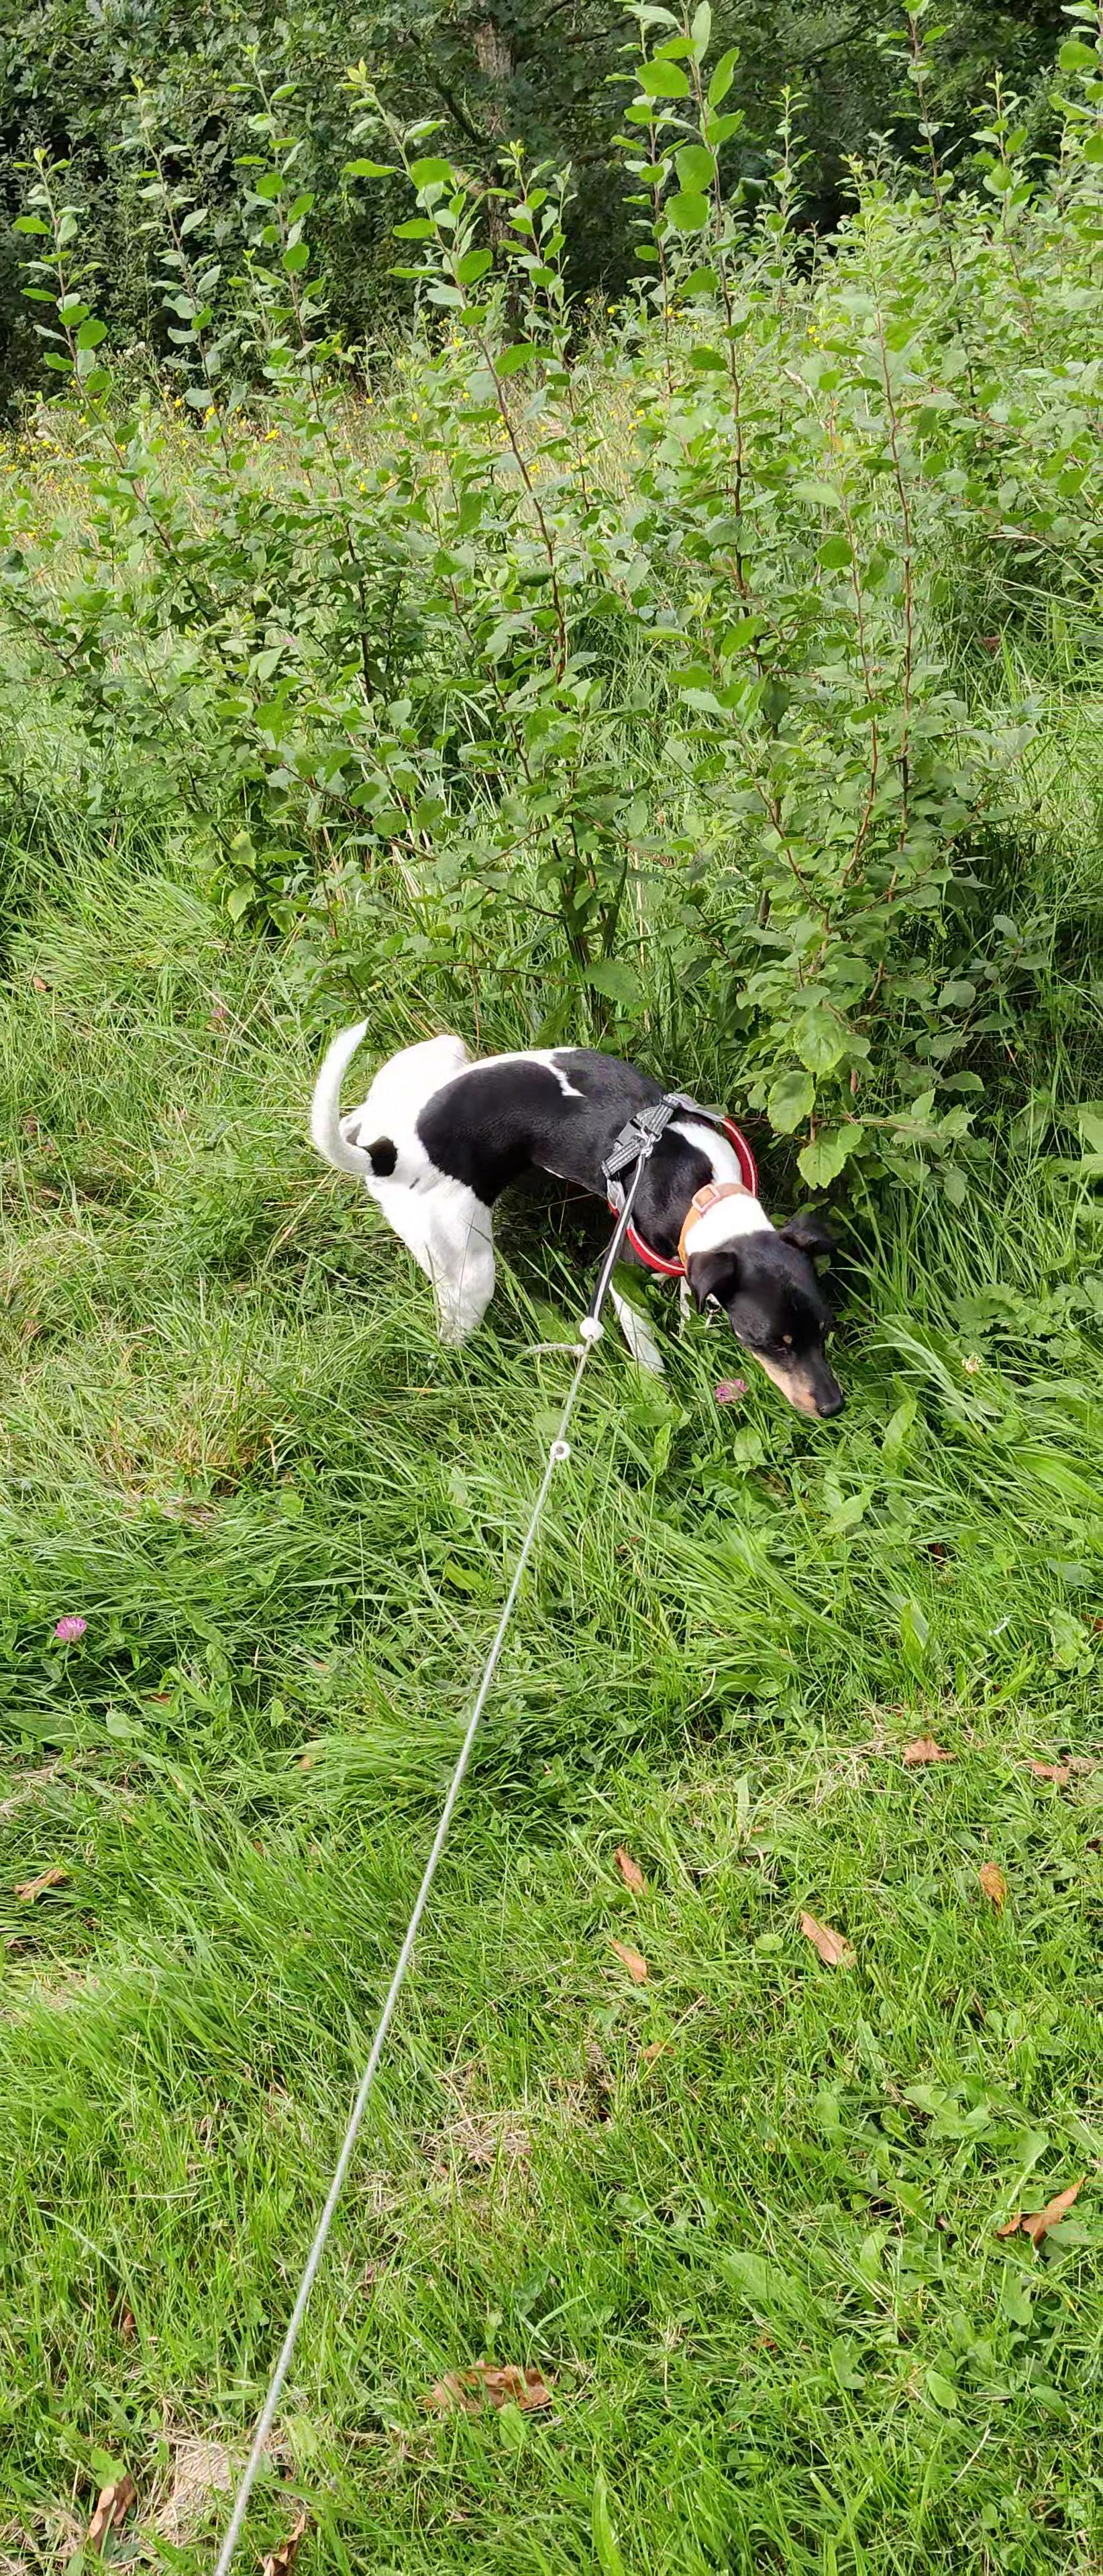Dog: (278, 991, 876, 1442)
